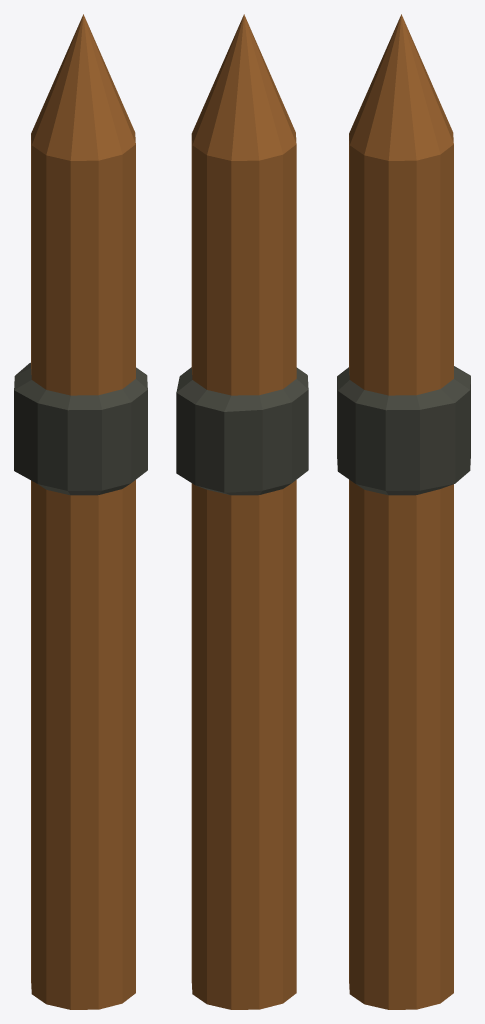
The model's file is spike 2.fbx.
3 views of the same model, side by side, from view 1: azimuth 90°, elevation 25°; view 2: azimuth 150°, elevation 25°; view 3: azimuth 270°, elevation 25° (orthographic).
Visible parts, largest first — view 1: Cylinder.054; view 2: Cylinder.054; view 3: Cylinder.054.
Part boxes in pixels (<box>): Cylinder.054: <box>14,14,147,1009</box>; Cylinder.054: <box>176,14,308,1009</box>; Cylinder.054: <box>337,14,470,1009</box>.
Size of the model in its own units: 0.4104 by 3.42 by 0.4263.
